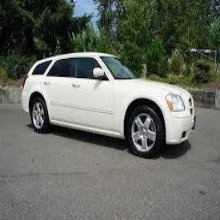no damage: (20, 50, 199, 158)
